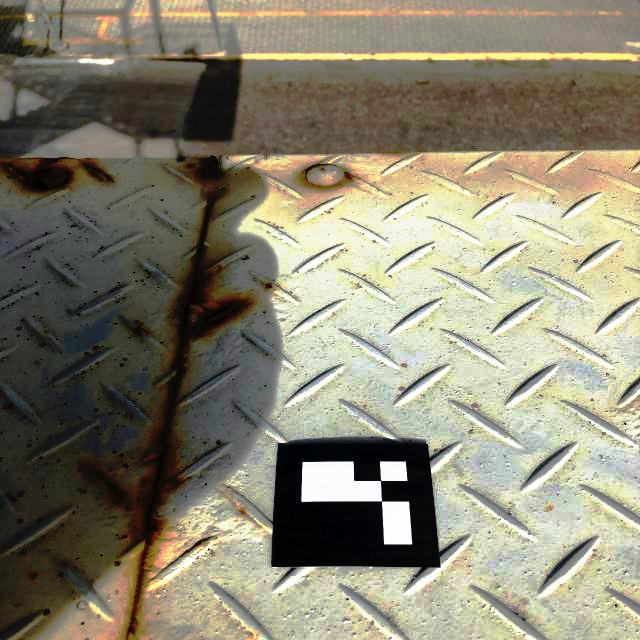Corrosion: (81, 427, 176, 640), (183, 260, 246, 336), (0, 157, 116, 192), (193, 157, 220, 177), (132, 326, 147, 337), (344, 170, 355, 183), (193, 540, 206, 549)
